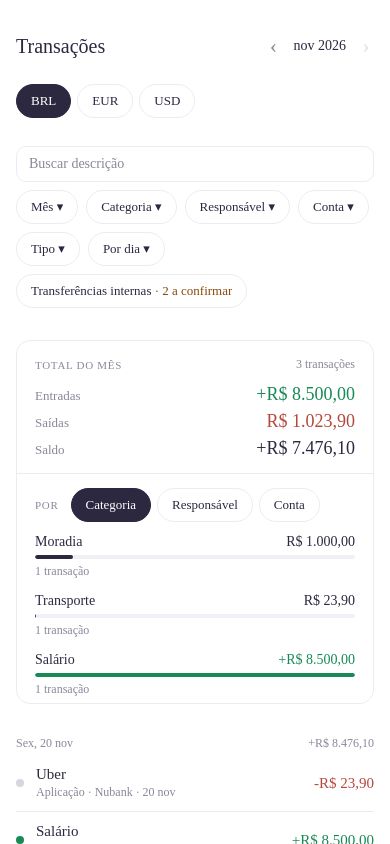
Test case: TransactionsScreen on the phone › lists the month and opens a line as a sheet
The width and height of the screenshot is (390, 844).
Click the text "Uber".
click(51, 774)  # box [36,766,66,782]
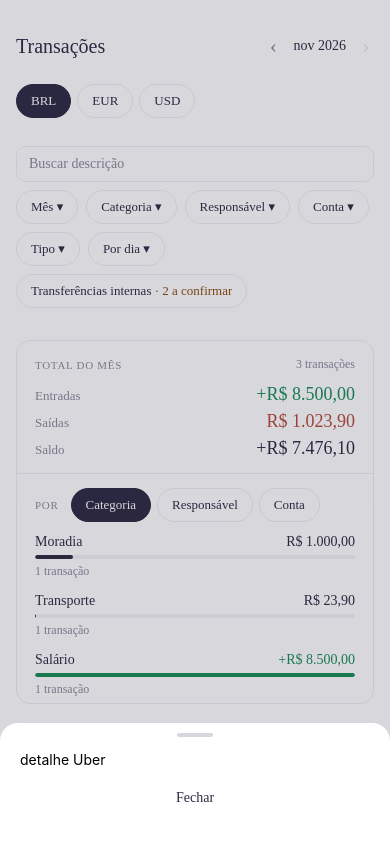
Now the text "detalhe Uber" is shown, box [20,751,105,768]
Click the button "Fechar".
click(195, 798)  # box [156,780,234,816]
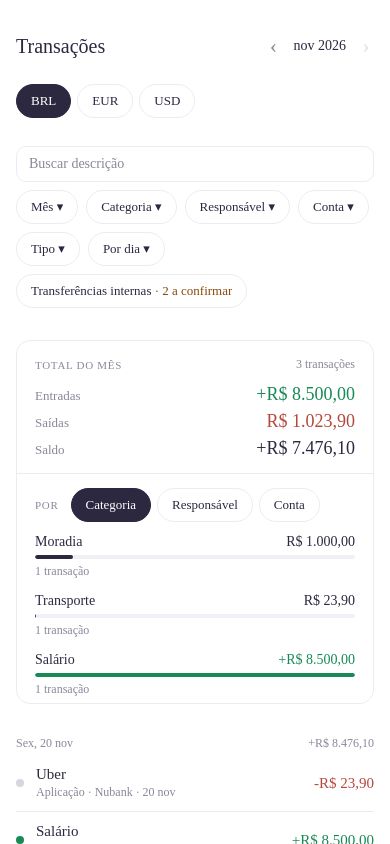
Now the text "detalhe Uber" is gone
